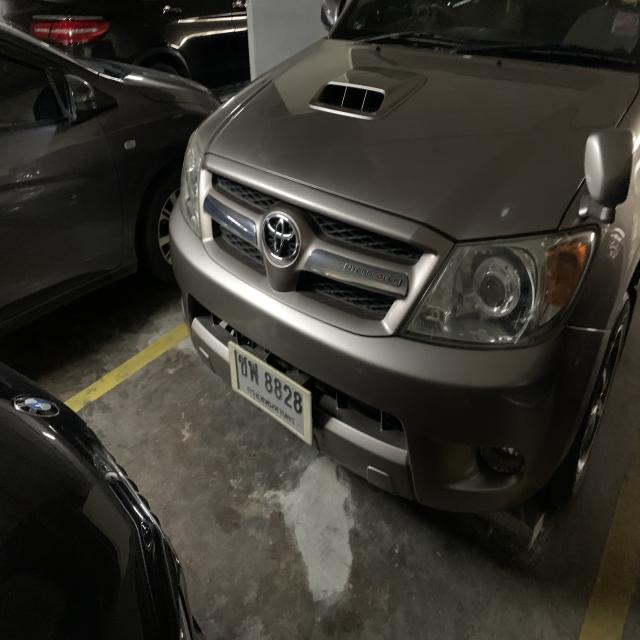license_plate: (228, 340, 314, 450)
